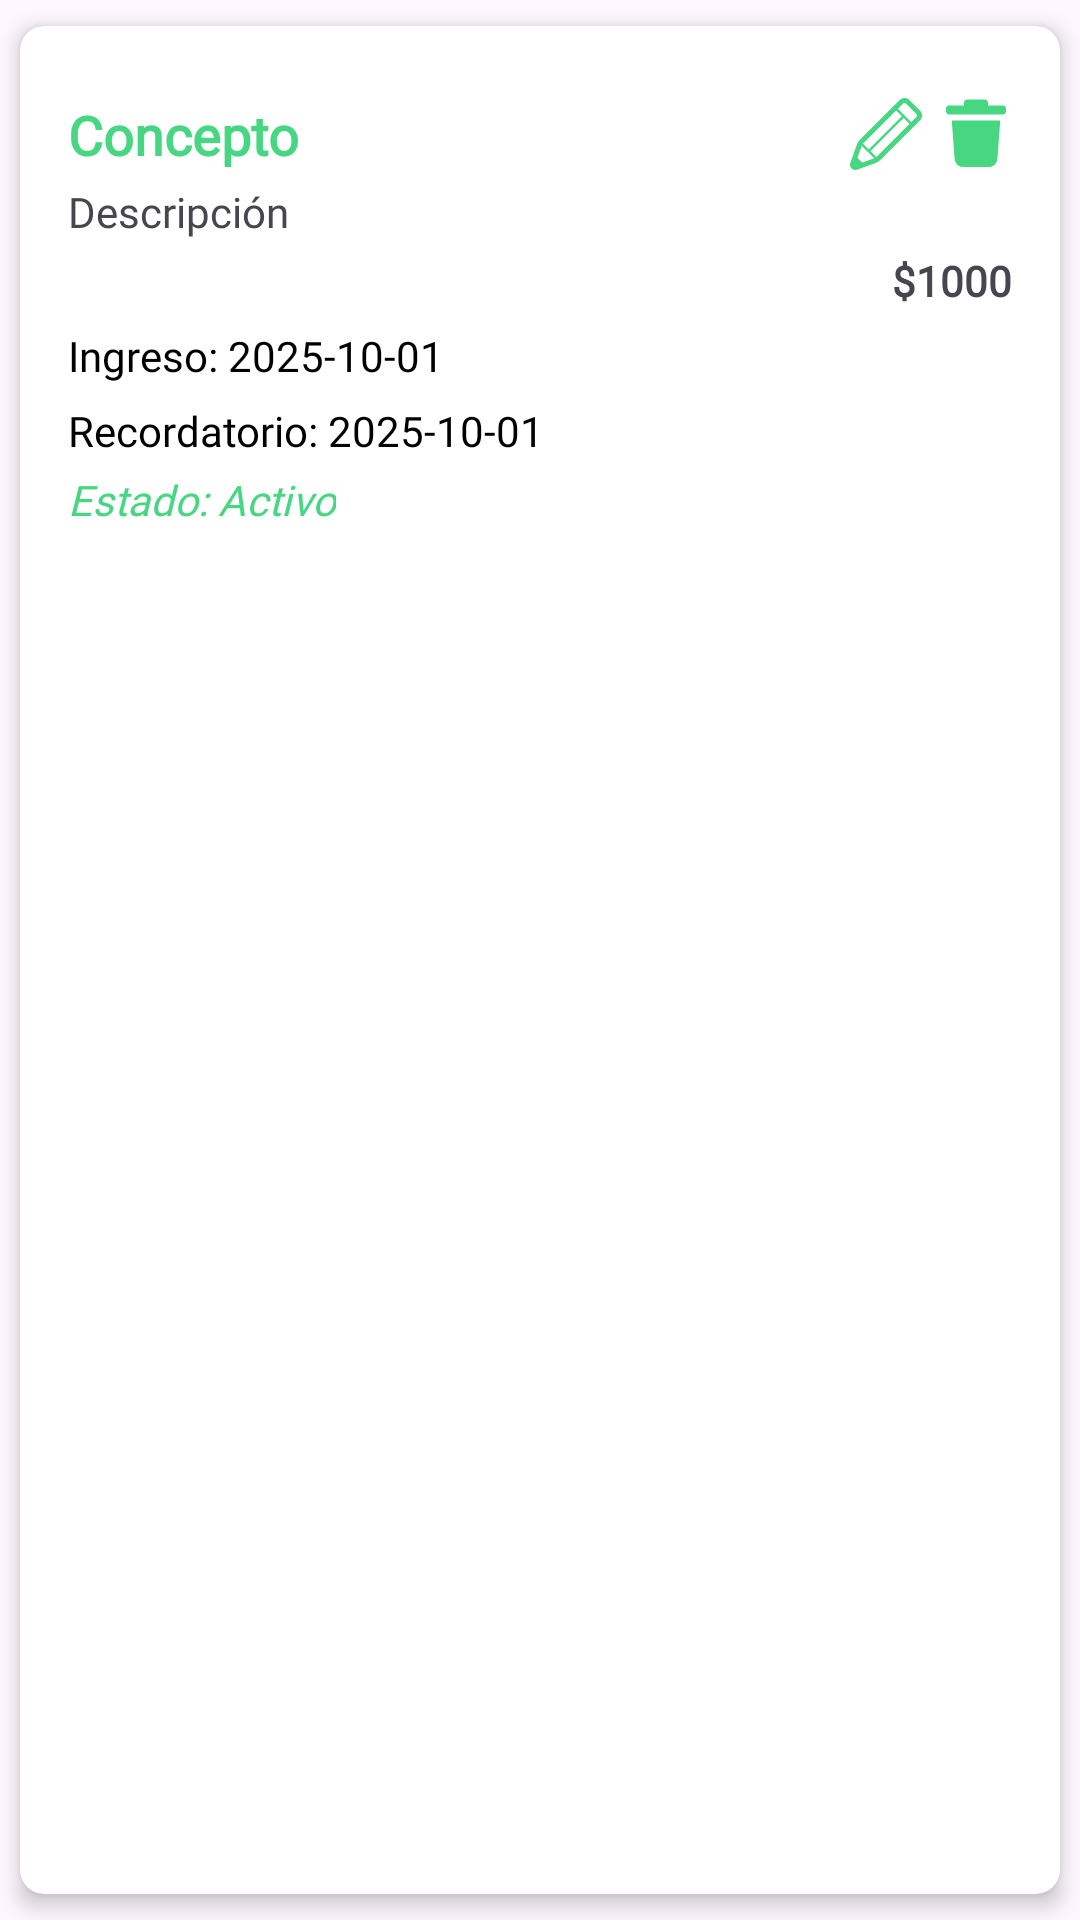

Named icons in this screenshot (1080x1920) and their centers, (x,y):
Editar proyección: (886,134)
Eliminar proyección: (976,133)
